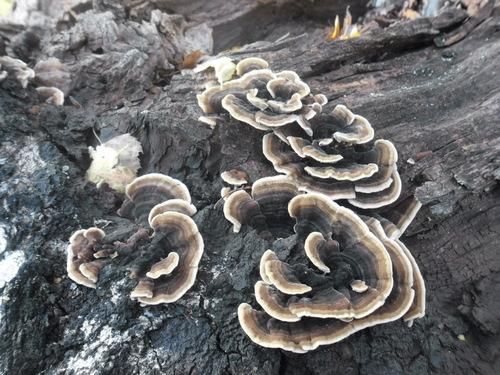Non-edible Mushroom: (199, 36, 418, 225), (236, 192, 425, 353), (128, 209, 204, 306), (65, 225, 117, 289)
